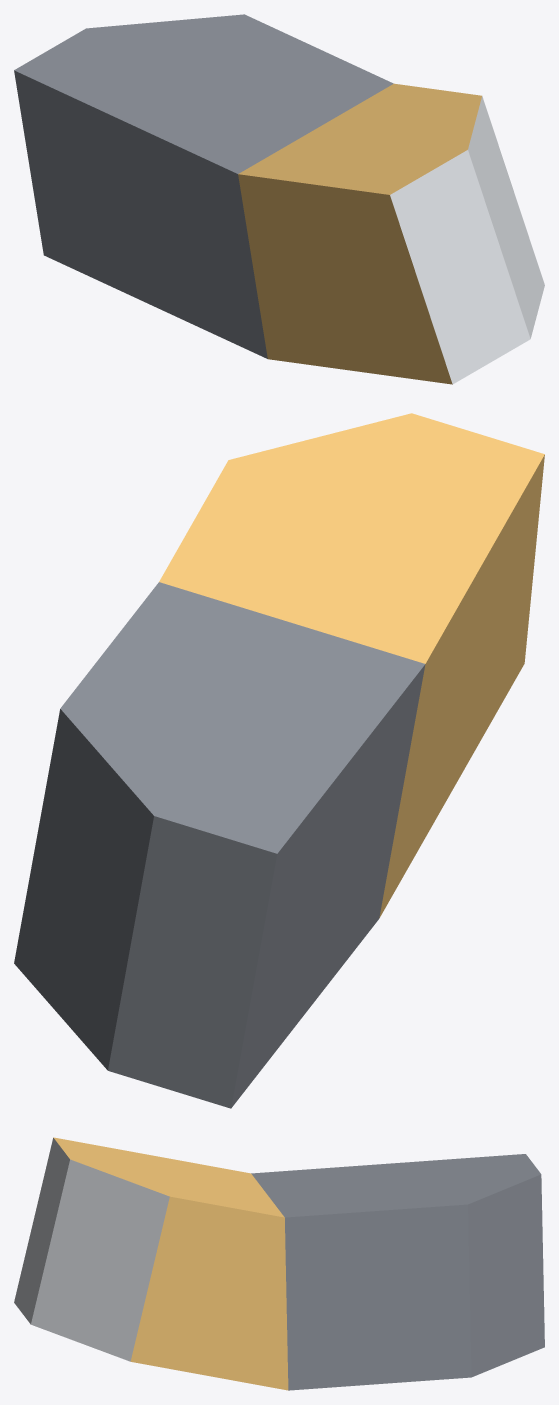
File: astronautA_arm.glb
The picture shows the model from 3 angles, top to bottom: view 1: azimuth 30°, elevation 25°; view 2: azimuth 150°, elevation 25°; view 3: azimuth 270°, elevation 25°; orthographic projection. The views are drawn at different scales.
Visible parts, largest first — view 1: armRight; view 2: armRight; view 3: armRight.
Boxes of the visible parts, x1,y1,x2,y2 form: armRight: (14,14,544,384); armRight: (14,413,544,1108); armRight: (14,1137,544,1390).
Bounding box in the file's own units: 0.1779 × 0.1602 × 0.3412.
